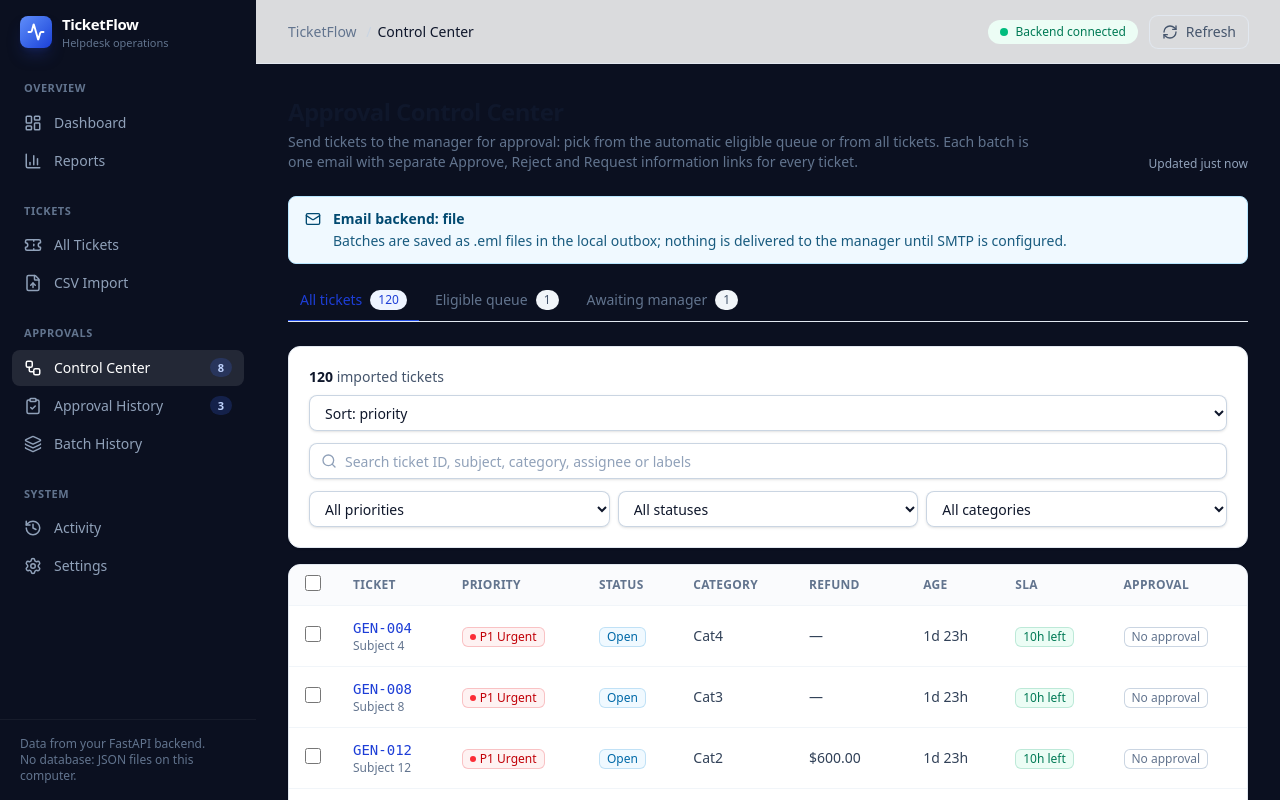
Test case: Control Center: All tickets › opens ticket details
Expected: the element with test id "all-tickets-count" shows "imported tickets", [309,367,444,387]
Type "GEN-001" into the search field named "Search all tickets" at (768, 461), box [309,443,1227,479]
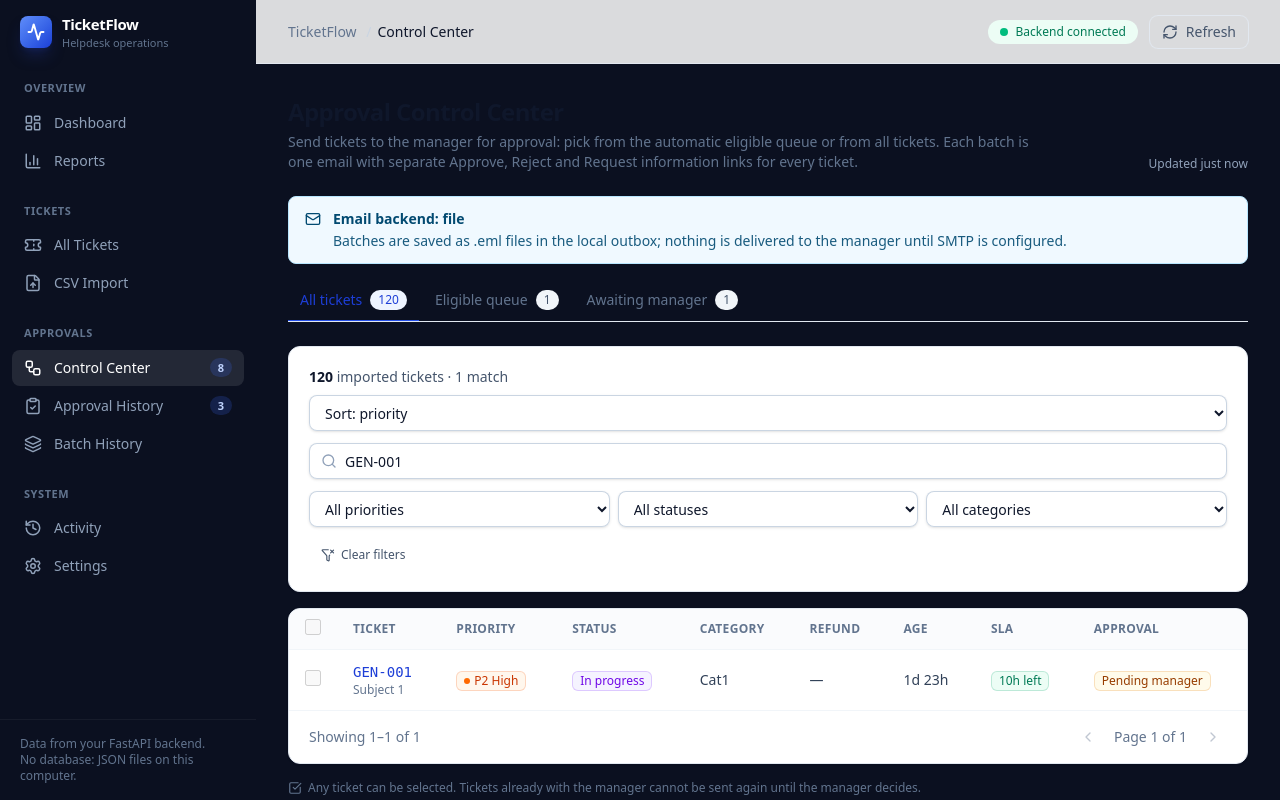
Click the button "GEN-001" at (382, 672), box [353,662,412,682]
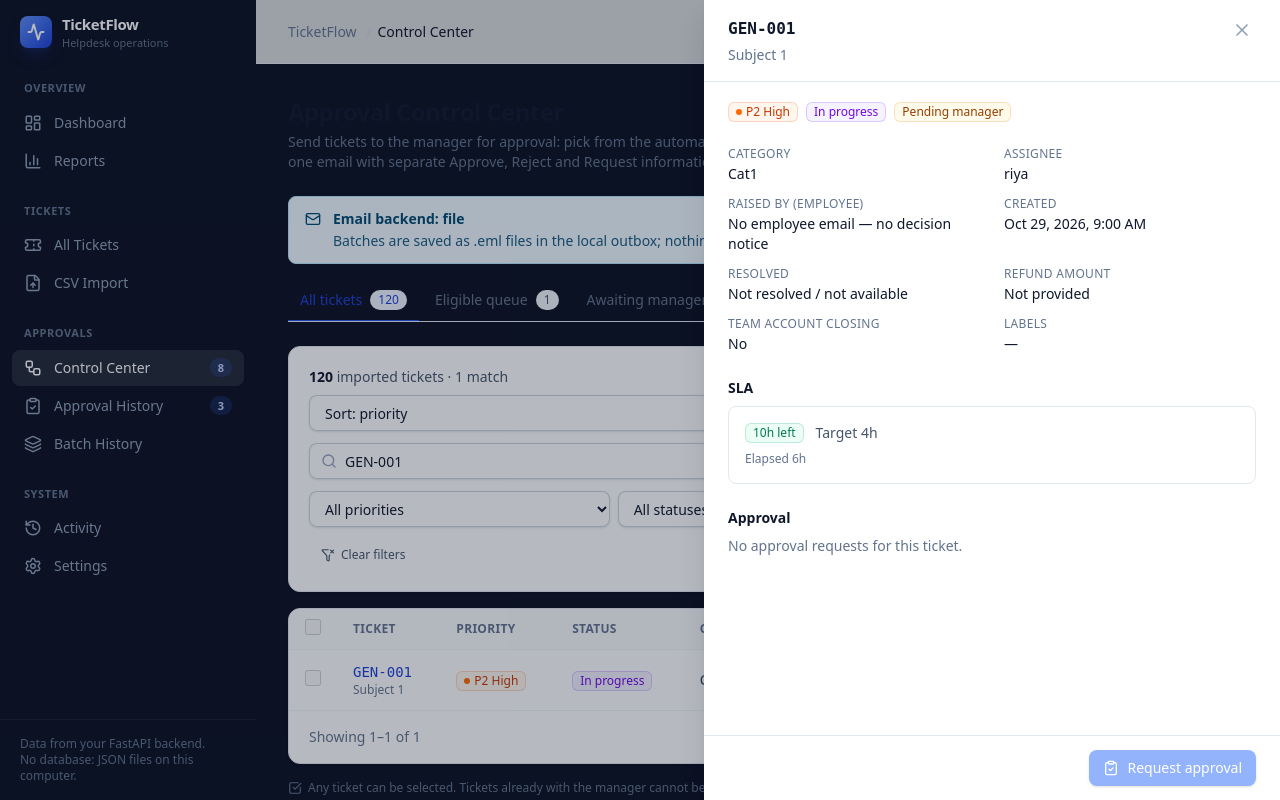
Now the dialog "GEN-001" is shown, box [704,0,1279,799]
